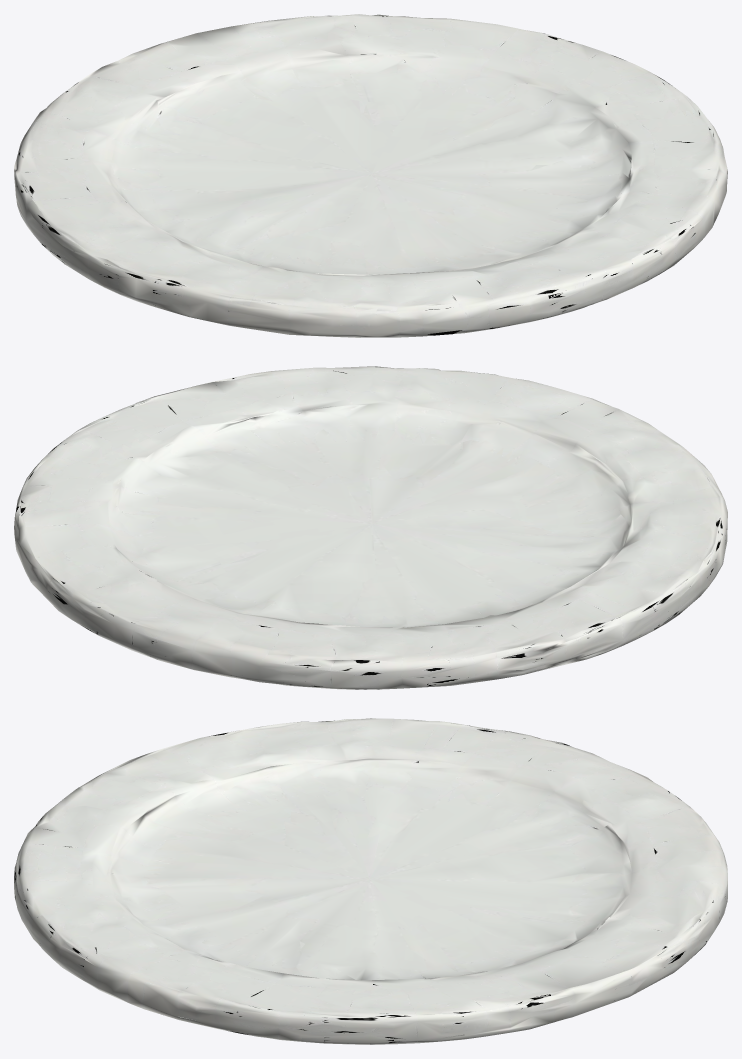
File: mobile.glb
3 renders of one model, top to bottom at view 1: azimuth 30°, elevation 25°; view 2: azimuth 150°, elevation 25°; view 3: azimuth 270°, elevation 25°, orthographic.
Visible parts, largest first — view 1: plate; view 2: plate; view 3: plate.
Part boxes in pixels (x1,y1,x2,y2): plate: (14,14,727,337); plate: (14,366,727,689); plate: (14,718,727,1044).
Size of the model in its own units: 0.2699 by 0.0125 by 0.2698.
Materials: 1 (1 with a texture image).
